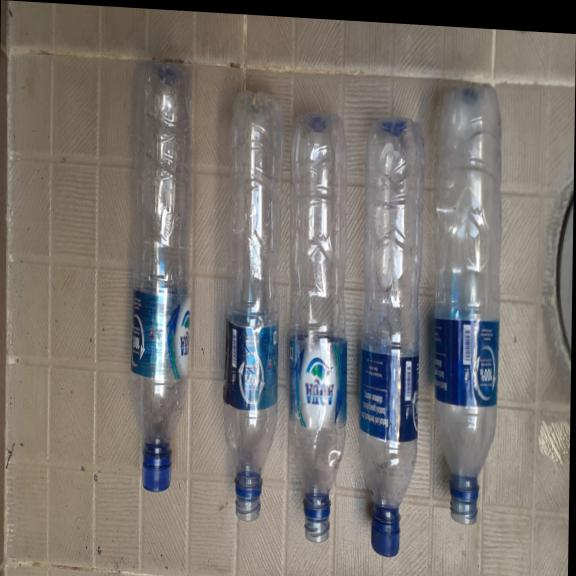Plastik: (424, 79, 503, 531), (355, 115, 425, 563), (283, 108, 351, 547), (126, 55, 193, 496), (220, 85, 284, 524)
